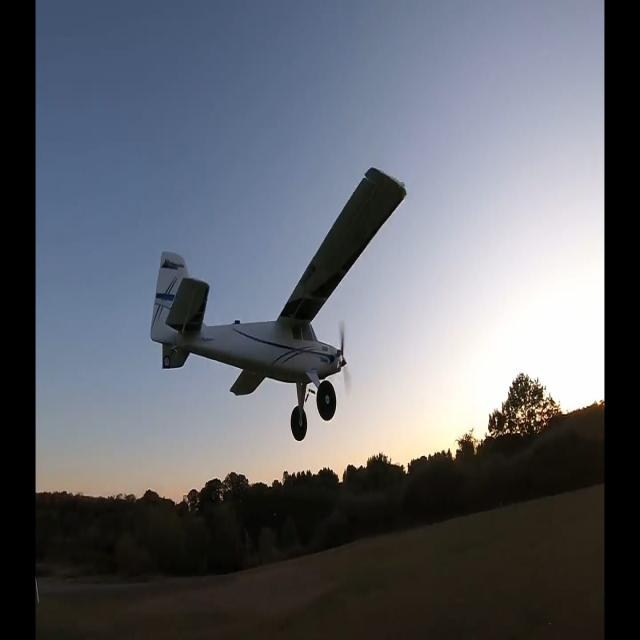iha: (149, 166, 408, 442)
